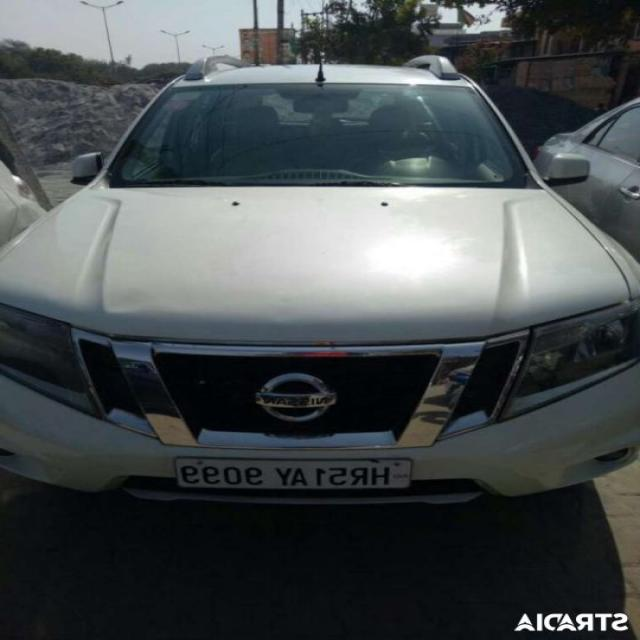number-plate: (132, 449, 433, 508)
